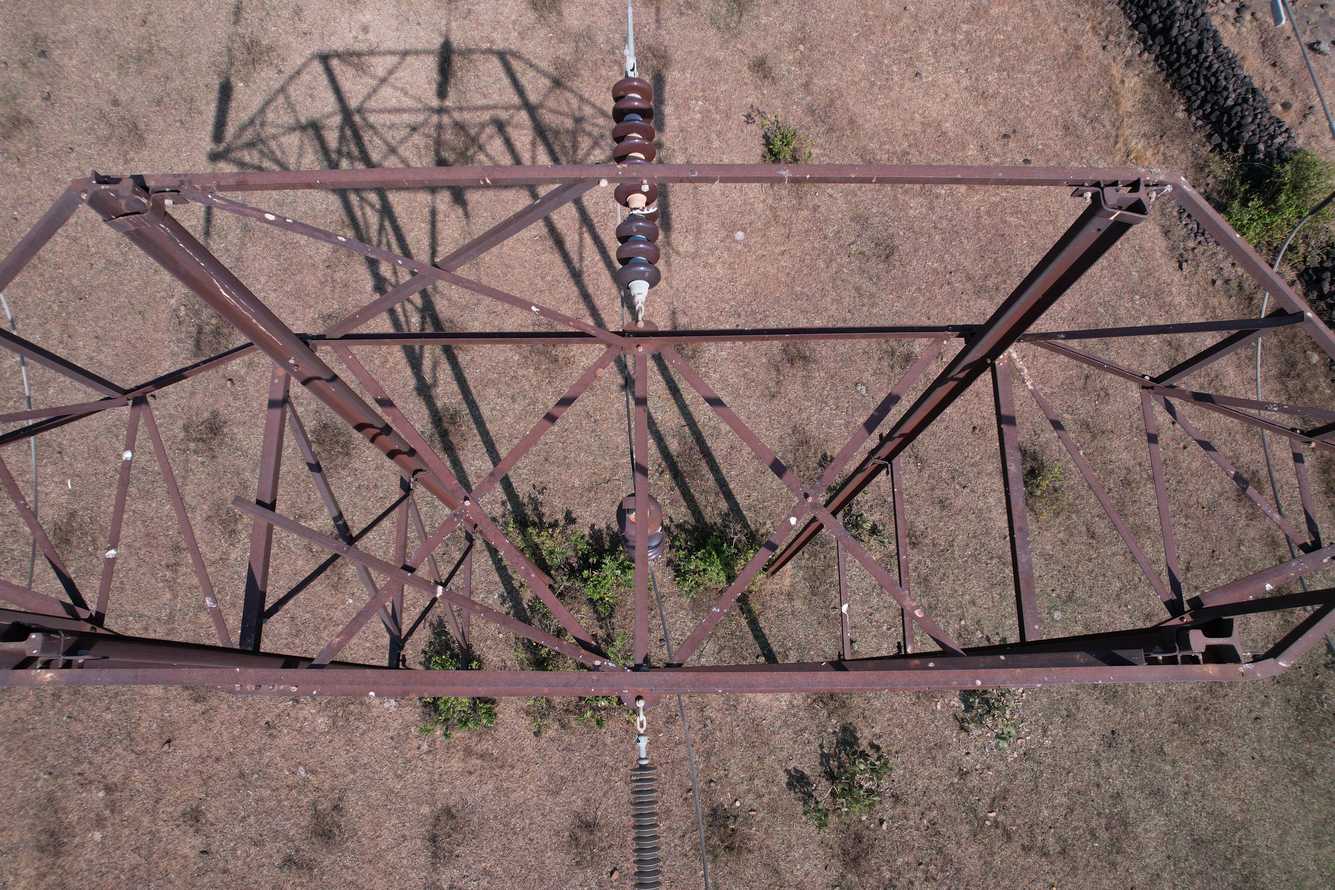broken_insulator: (620, 204, 663, 219)
